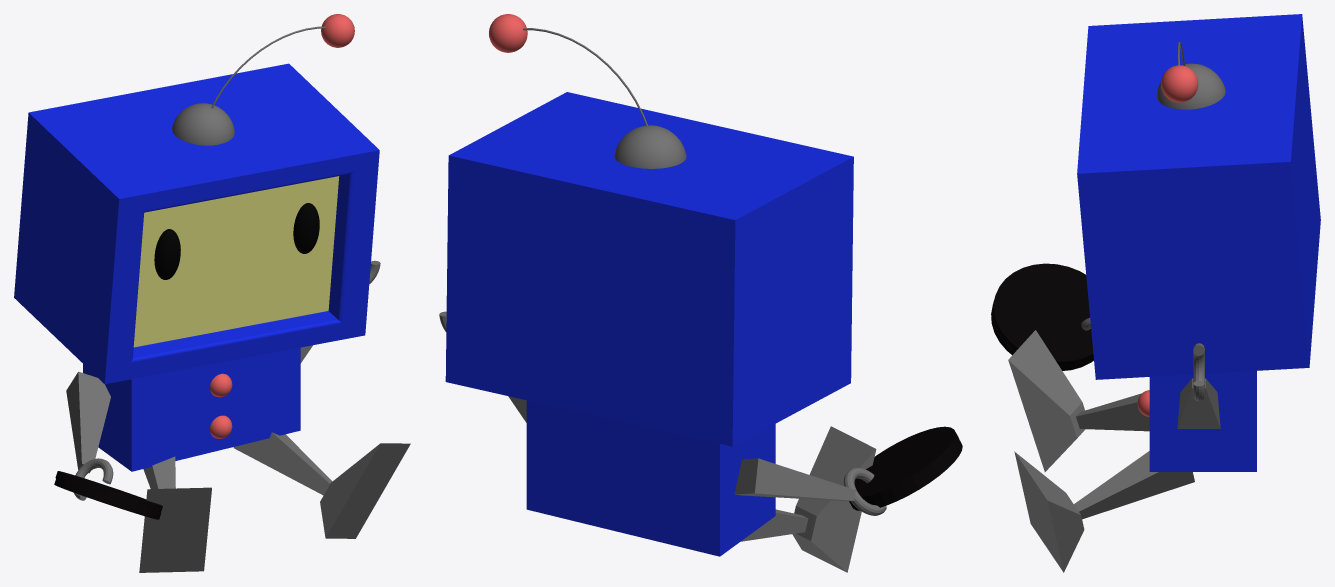
The model's file is robot_kun_sai.glb.
3 views of the same model, side by side, from view 1: azimuth 30°, elevation 25°; view 2: azimuth 150°, elevation 25°; view 3: azimuth 270°, elevation 25° (orthographic). The views are drawn at different scales.
Parts seen in each view (by area): view 1: Cube, Cube.001, Cube.007, Cube.008, Cube.005, Cube.003, Sphere.004, white, Sphere, Sphere.001, Sphere.005, Cube.002 (+1 smaller); view 2: Cube, Cube.001, Cube.007, white, Cube.005, Sphere.004, Sphere.005, Cube.002, Torus.000; view 3: Cube, Cube.001, white, Cube.007, Cube.008, Cube.003, Cube.002, Cube.004, Sphere.004, Sphere.005, Torus.001.
Boxes of the visible parts, x1=… form: Cube: x1=14, y1=63, x2=379, y2=384; Cube.001: x1=83, y1=347, x2=300, y2=471; Cube.007: x1=139, y1=487, x2=211, y2=572; Cube.008: x1=320, y1=443, x2=410, y2=538; Cube.005: x1=66, y1=371, x2=110, y2=473; Cube.003: x1=233, y1=432, x2=332, y2=495; Sphere.004: x1=172, y1=103, x2=234, y2=145; white: x1=54, y1=471, x2=162, y2=519; Sphere: x1=154, y1=229, x2=180, y2=279; Sphere.001: x1=293, y1=203, x2=319, y2=253; Sphere.005: x1=321, y1=14, x2=354, y2=47; Cube.002: x1=143, y1=456, x2=175, y2=488; Cube: x1=445, y1=92, x2=853, y2=446; Cube.001: x1=526, y1=400, x2=775, y2=556; Cube.007: x1=792, y1=426, x2=876, y2=572; white: x1=849, y1=426, x2=962, y2=510; Cube.005: x1=734, y1=458, x2=855, y2=501; Sphere.004: x1=614, y1=125, x2=686, y2=168; Sphere.005: x1=489, y1=14, x2=527, y2=52; Cube.002: x1=740, y1=509, x2=808, y2=541; Torus.000: x1=843, y1=467, x2=886, y2=515; Cube: x1=1077, y1=14, x2=1320, y2=379; Cube.001: x1=1149, y1=371, x2=1256, y2=471; white: x1=991, y1=263, x2=1093, y2=370; Cube.007: x1=1008, y1=330, x2=1084, y2=471; Cube.008: x1=1014, y1=451, x2=1084, y2=572; Cube.003: x1=1074, y1=451, x2=1194, y2=519; Cube.002: x1=1076, y1=393, x2=1149, y2=431; Cube.004: x1=1177, y1=378, x2=1220, y2=428; Sphere.004: x1=1156, y1=63, x2=1225, y2=109; Sphere.005: x1=1161, y1=65, x2=1198, y2=102; Torus.001: x1=1193, y1=343, x2=1204, y2=401.
Size of the model in its own units: 4.54 by 5.39 by 3.07.
